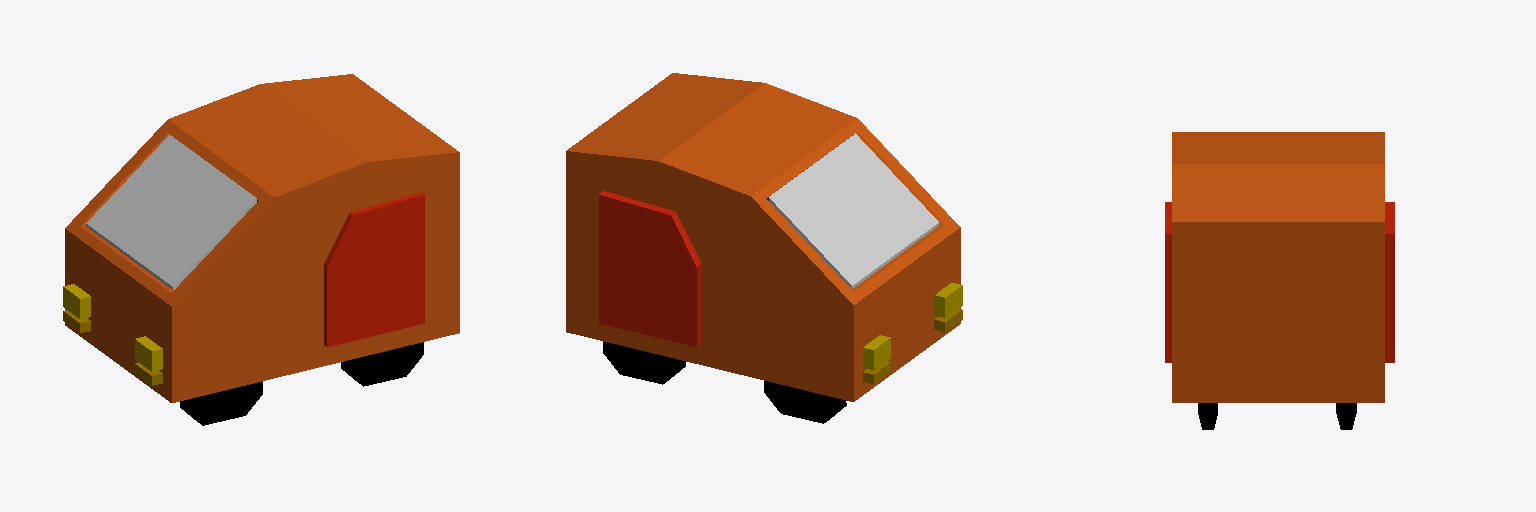
Rendered from Car.obj.
3 renders of one model, left to right at view 1: azimuth 30°, elevation 25°; view 2: azimuth 150°, elevation 25°; view 3: azimuth 270°, elevation 25°, orthographic.
Visible parts, largest first — view 1: Car_Cube, Window_Cube.003, RightDoor_Cube.011, RightBackWhell_Cube.014, RightFrontWheel_Cube.012, RightFlash_Cube.004, LeftFlash_Cube.002; view 2: Car_Cube, Window_Cube.003, LeftDoor_Cube.010, LeftBackWheel_Cube.015, LeftFrontWheel_Cube.013, RightFlash_Cube.004, LeftFlash_Cube.002; view 3: Car_Cube, LeftDoor_Cube.010, RightDoor_Cube.011.
Boxes of the visible parts, box(x1,y1,x2,y2) form: Car_Cube: box(65, 74, 459, 402); Window_Cube.003: box(86, 135, 256, 289); RightDoor_Cube.011: box(324, 192, 424, 346); RightBackWhell_Cube.014: box(341, 342, 423, 386); RightFrontWheel_Cube.012: box(180, 381, 262, 425); RightFlash_Cube.004: box(135, 336, 162, 371); LeftFlash_Cube.002: box(63, 284, 90, 318); Car_Cube: box(566, 73, 960, 401); Window_Cube.003: box(769, 133, 938, 288); LeftDoor_Cube.010: box(599, 191, 701, 346); LeftBackWheel_Cube.015: box(603, 341, 685, 384); LeftFrontWheel_Cube.013: box(764, 381, 846, 423); RightFlash_Cube.004: box(934, 283, 962, 317); LeftFlash_Cube.002: box(863, 335, 890, 370); Car_Cube: box(1172, 132, 1384, 402); LeftDoor_Cube.010: box(1385, 202, 1394, 362); RightDoor_Cube.011: box(1165, 202, 1171, 362).
Bounding box in the file's own units: 3.43 × 2.62 × 2.29.